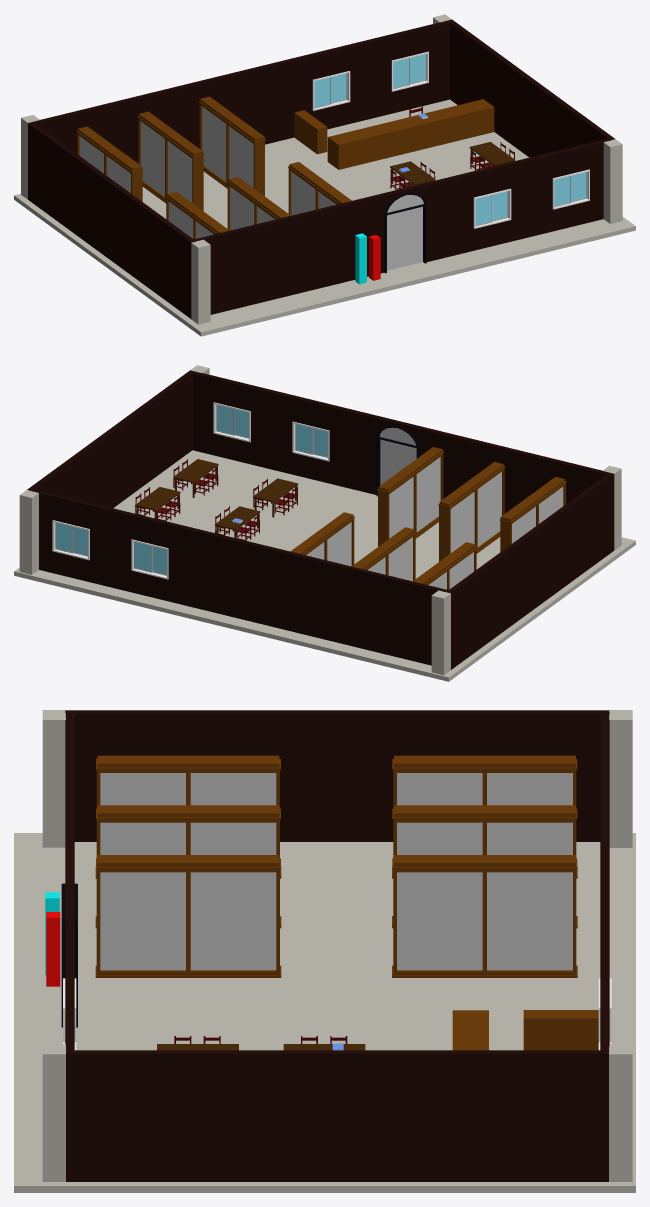
Rendered from lilbray2.obj.
3 views of the same model, one above another, from view 1: azimuth 30°, elevation 25°; view 2: azimuth 150°, elevation 25°; view 3: azimuth 270°, elevation 25° (orthographic). The views are drawn at different scales.
Parts seen in each view (by area): view 1: polySurface13305; view 2: polySurface13305; view 3: polySurface13305.
Part boxes in pixels (x1,y1,x2,y2): polySurface13305: (14,14,635,336); polySurface13305: (14,365,635,681); polySurface13305: (14,710,635,1192).
Size of the model in its own units: 1769 by 315 by 1318.
